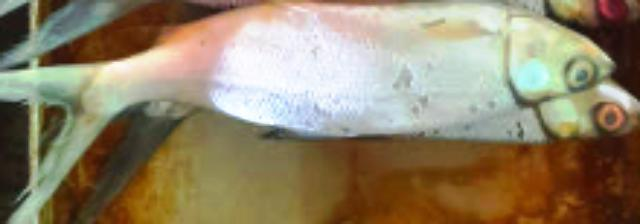Healthy Fish: (0, 0, 614, 224)
